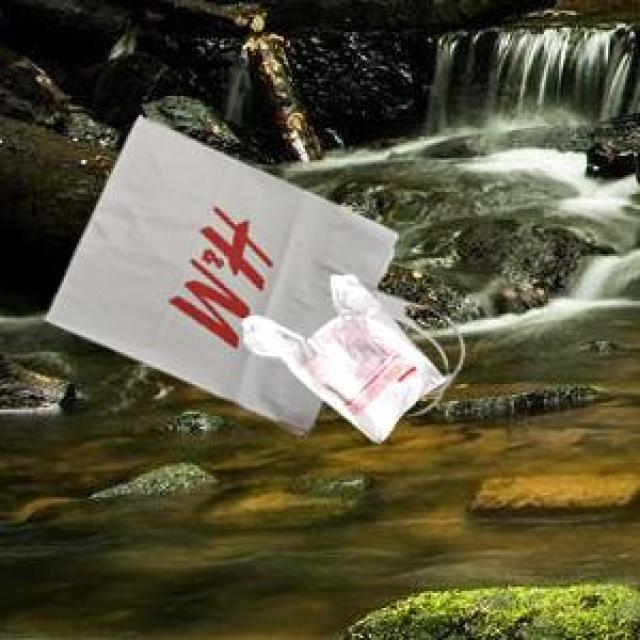paper: (41, 111, 450, 433)
